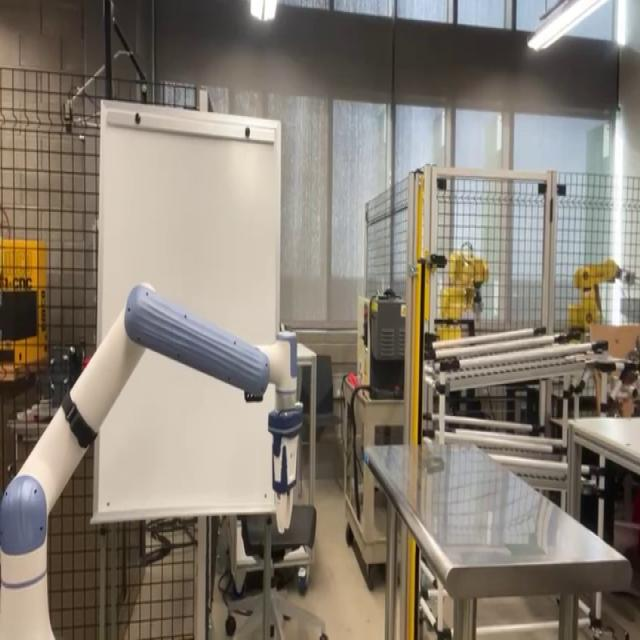robot: (0, 280, 314, 639)
